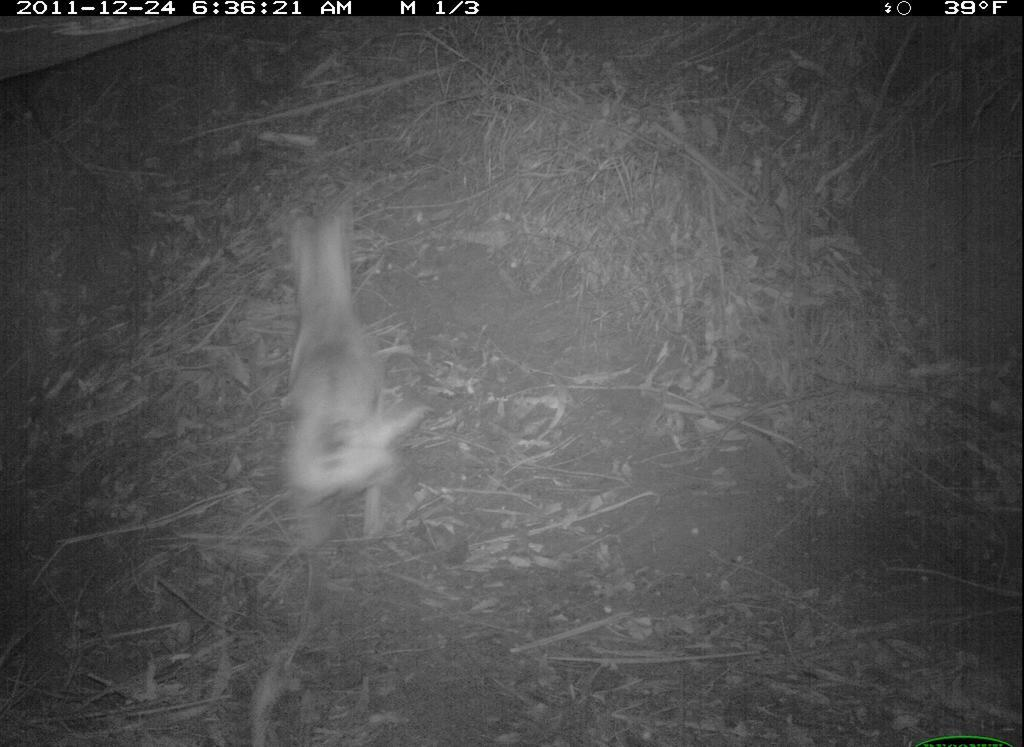dog: (265, 187, 440, 557)
